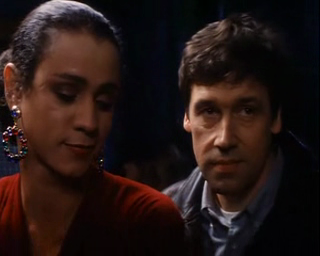cu: (1, 1, 320, 256)
face: (39, 52, 119, 180), (189, 83, 269, 195)
person: (1, 1, 191, 256), (161, 13, 320, 256)
